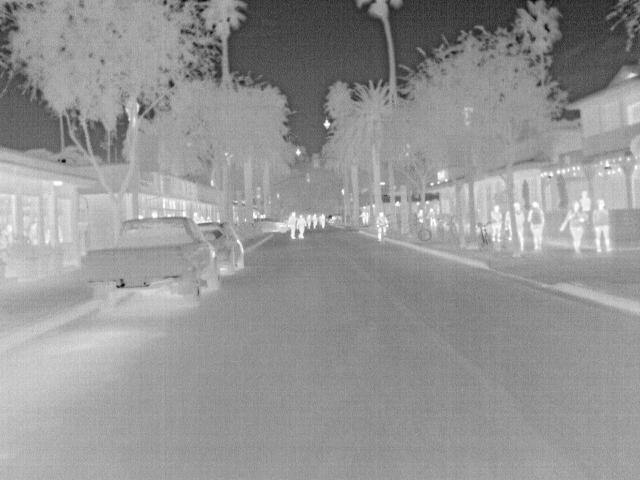car: (80, 213, 224, 308), (195, 222, 246, 278), (261, 218, 290, 234)
person: (559, 199, 589, 254), (592, 198, 614, 253), (529, 198, 546, 252), (513, 200, 526, 250), (488, 202, 503, 244), (373, 211, 390, 244), (2, 224, 19, 249), (286, 211, 300, 240), (425, 205, 440, 231), (501, 210, 513, 242), (295, 212, 308, 239), (191, 210, 203, 224), (358, 210, 368, 225), (149, 209, 162, 220), (312, 212, 320, 229), (320, 212, 327, 229)
